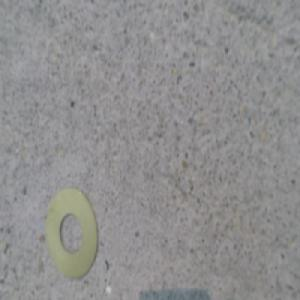Washer: (45, 189, 97, 278)
